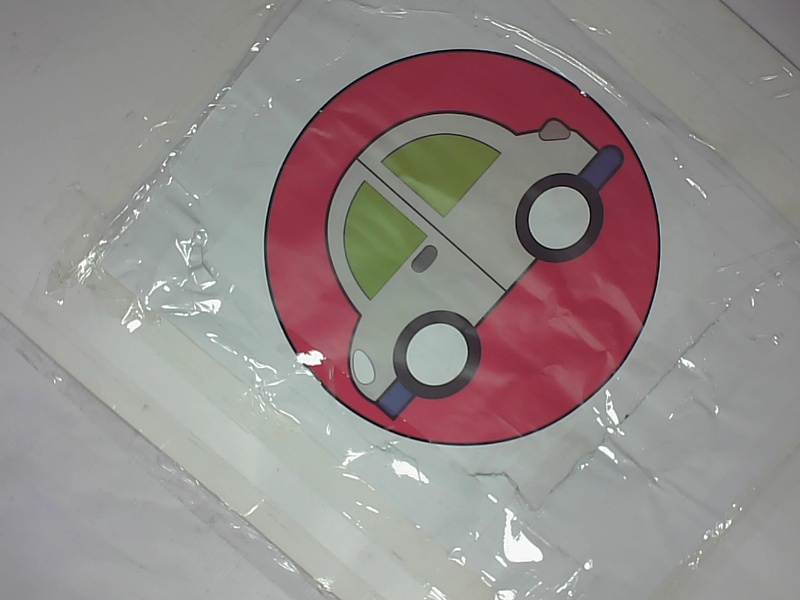areaC: (233, 40, 686, 457)
